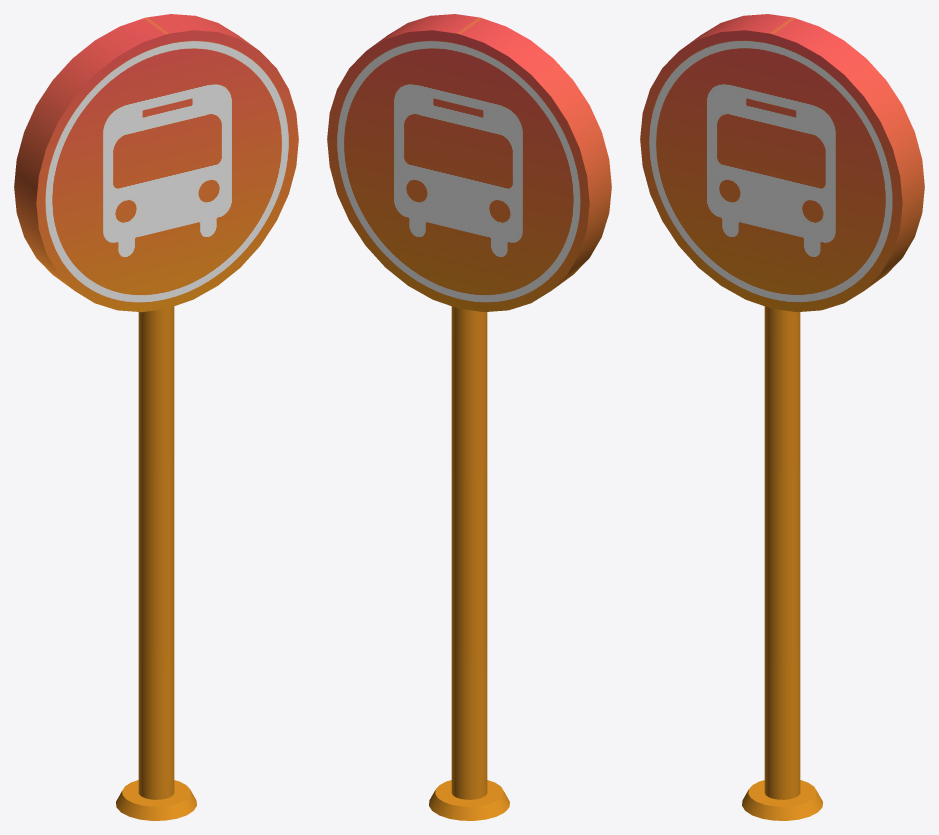
File: busstop.glb
3 renders of one model, left to right at view 1: azimuth 30°, elevation 25°; view 2: azimuth 150°, elevation 25°; view 3: azimuth 330°, elevation 25°, orthographic.
Visible parts, largest first — view 1: Sign_0; view 2: Sign_0; view 3: Sign_0.
Boxes of the visible parts, x1,y1,x2,y2 form: Sign_0: (14,14,298,820); Sign_0: (327,14,611,820); Sign_0: (640,14,924,820).
Bounding box in the file's own units: 14.98 × 42.41 × 4.04.
1 material, 1 textured.
